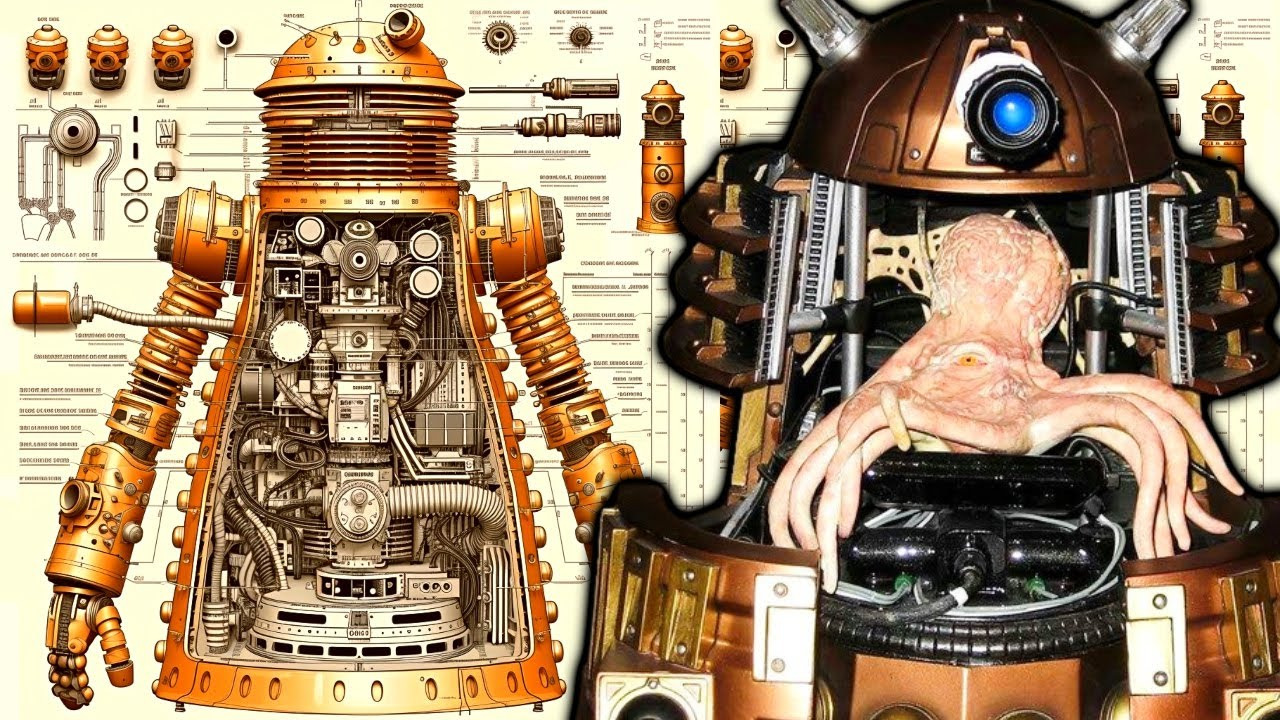dalek: (674, 0, 1242, 666), (135, 0, 578, 720)
